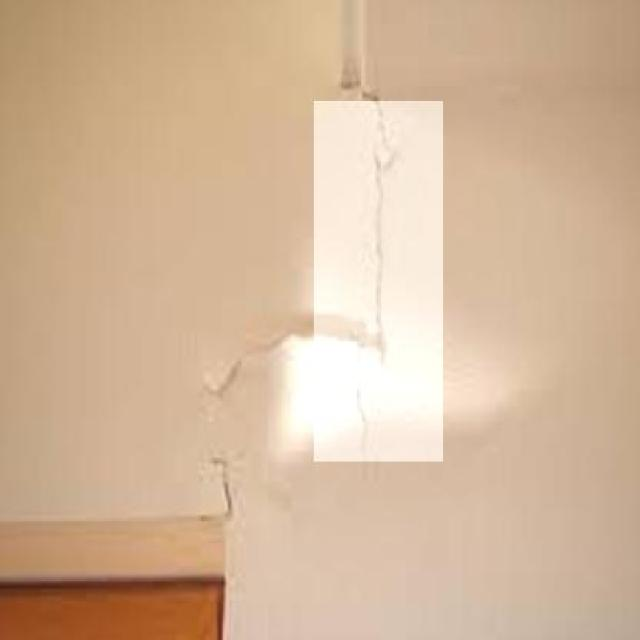Crack: (348, 95, 408, 411), (187, 339, 287, 408), (204, 456, 240, 512)
